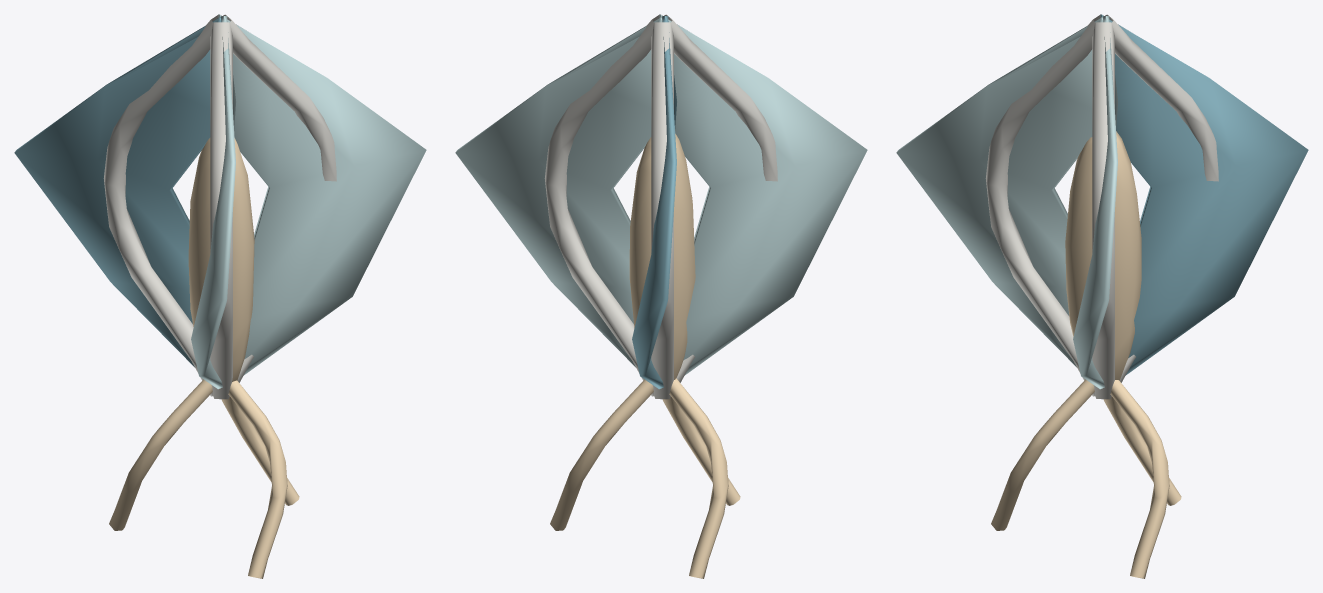
The model's file is bio_lantern_sail_01_far.glb.
3 views of the same model, side by side, from view 1: azimuth 30°, elevation 25°; view 2: azimuth 150°, elevation 25°; view 3: azimuth 270°, elevation 25° (orthographic).
Parts seen in each view (by area): view 1: Ribbed sensory membrane, Ribbed sensory membrane.001, Membrane leading seam.001, Buoyancy spindle, Ribbed sensory membrane.002, Membrane leading seam.002, Membrane leading seam, Trailing electroreceptor.002, Trailing electroreceptor.001, Trailing electroreceptor; view 2: Ribbed sensory membrane.002, Ribbed sensory membrane, Membrane leading seam, Buoyancy spindle, Ribbed sensory membrane.001, Membrane leading seam.001, Membrane leading seam.002, Trailing electroreceptor.001, Trailing electroreceptor, Trailing electroreceptor.002; view 3: Ribbed sensory membrane.001, Ribbed sensory membrane.002, Buoyancy spindle, Membrane leading seam.002, Ribbed sensory membrane, Membrane leading seam, Membrane leading seam.001, Trailing electroreceptor, Trailing electroreceptor.002, Trailing electroreceptor.001.
Boxes of the visible parts, bbox=[...] form: Ribbed sensory membrane: bbox=[218, 14, 426, 375]; Ribbed sensory membrane.001: bbox=[14, 16, 221, 367]; Membrane leading seam.001: bbox=[103, 14, 218, 396]; Buoyancy spindle: bbox=[188, 138, 254, 381]; Ribbed sensory membrane.002: bbox=[191, 16, 235, 389]; Membrane leading seam.002: bbox=[210, 22, 232, 399]; Membrane leading seam: bbox=[223, 14, 336, 382]; Trailing electroreceptor.002: bbox=[228, 380, 287, 578]; Trailing electroreceptor.001: bbox=[109, 379, 212, 530]; Trailing electroreceptor: bbox=[221, 396, 299, 505]; Ribbed sensory membrane.002: bbox=[659, 14, 867, 375]; Ribbed sensory membrane: bbox=[455, 16, 662, 367]; Membrane leading seam: bbox=[544, 14, 659, 396]; Buoyancy spindle: bbox=[629, 133, 695, 379]; Ribbed sensory membrane.001: bbox=[632, 16, 676, 389]; Membrane leading seam.001: bbox=[651, 22, 673, 399]; Membrane leading seam.002: bbox=[664, 14, 777, 382]; Trailing electroreceptor.001: bbox=[669, 378, 728, 578]; Trailing electroreceptor: bbox=[550, 379, 653, 530]; Trailing electroreceptor.002: bbox=[662, 396, 740, 505]; Ribbed sensory membrane.001: bbox=[1100, 14, 1308, 375]; Ribbed sensory membrane.002: bbox=[896, 16, 1103, 367]; Buoyancy spindle: bbox=[1065, 131, 1141, 380]; Membrane leading seam.002: bbox=[985, 14, 1100, 396]; Ribbed sensory membrane: bbox=[1073, 16, 1117, 389]; Membrane leading seam: bbox=[1092, 22, 1114, 399]; Membrane leading seam.001: bbox=[1105, 14, 1218, 382]; Trailing electroreceptor: bbox=[1110, 380, 1169, 578]; Trailing electroreceptor.002: bbox=[991, 379, 1094, 530]; Trailing electroreceptor.001: bbox=[1103, 396, 1181, 505].
Bounding box in the file's own units: 1.59 × 2.55 × 1.83.
